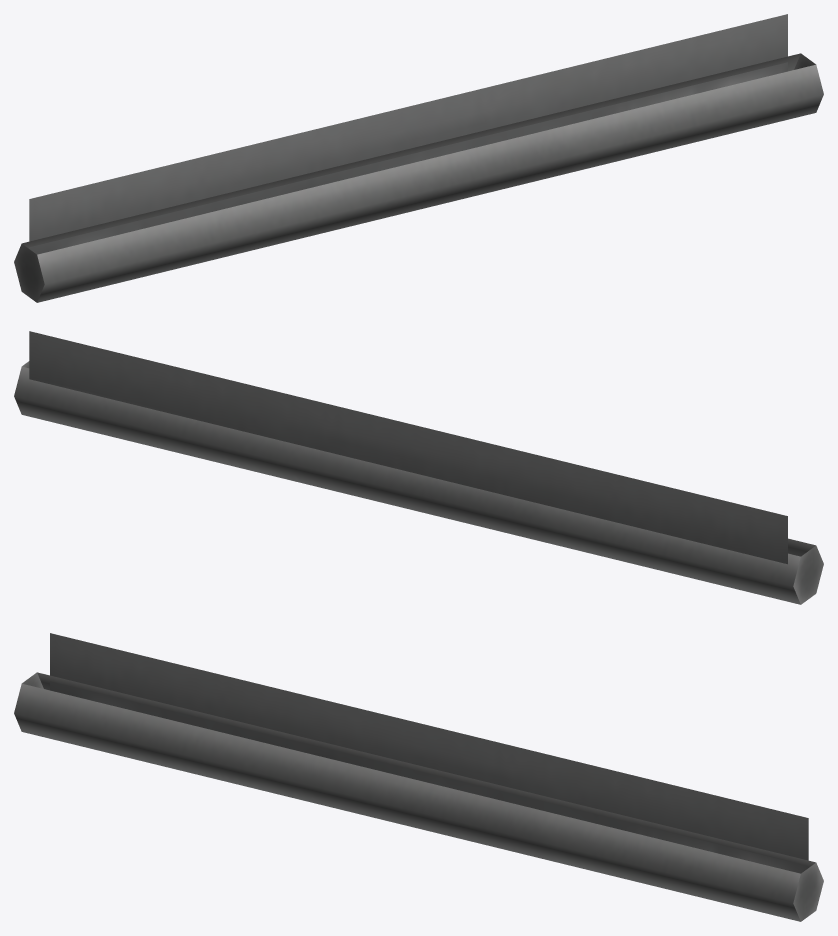
Rendered from rangerSolarCollider.dae.
3 views of the same model, one above another, from view 1: azimuth 30°, elevation 25°; view 2: azimuth 150°, elevation 25°; view 3: azimuth 330°, elevation 25° (orthographic).
Parts seen in each view (by area): view 1: PanelHinge, SolarPanel; view 2: SolarPanel, PanelHinge; view 3: PanelHinge, SolarPanel.
Part boxes in pixels (left/top/right/bottom): PanelHinge: left=14, top=53, right=823, bottom=302; SolarPanel: left=29, top=14, right=787, bottom=254; SolarPanel: left=29, top=331, right=787, bottom=564; PanelHinge: left=14, top=361, right=823, bottom=604; PanelHinge: left=14, top=672, right=823, bottom=921; SolarPanel: left=50, top=633, right=808, bottom=873.
Size of what is drawn, in the model's own units: 0.3706 by 0.04 by 0.0253.
